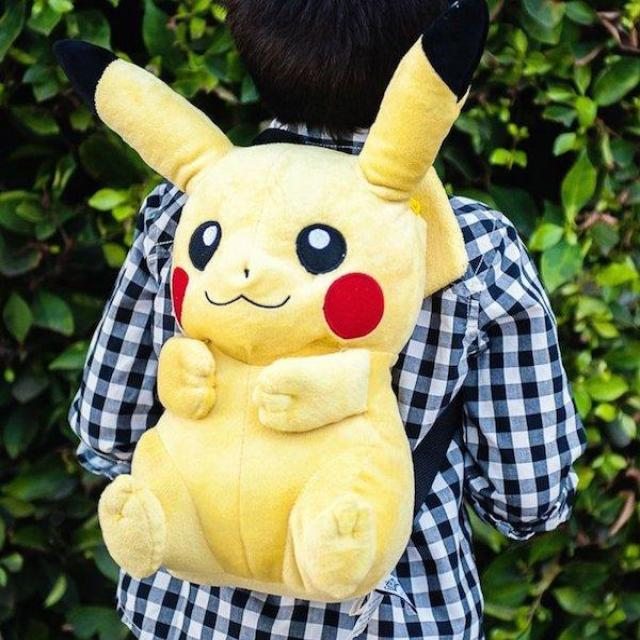pikachu: (53, 0, 490, 604)
